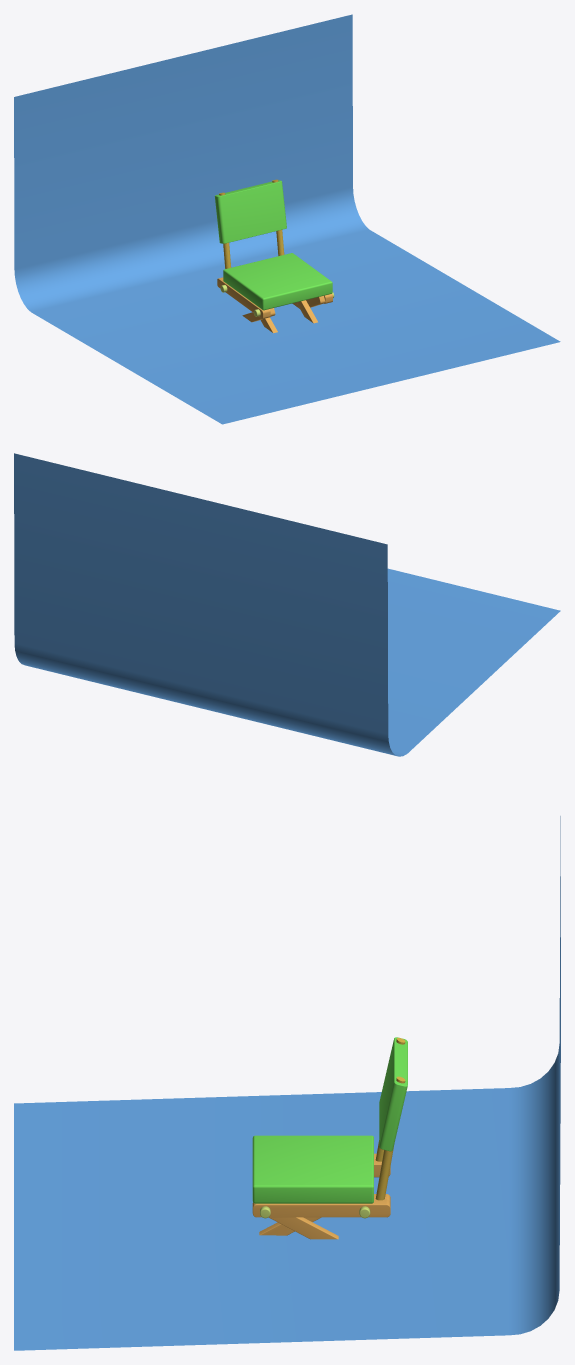
Rendered from chair.glb.
3 views of the same model, one above another, from view 1: azimuth 30°, elevation 25°; view 2: azimuth 150°, elevation 25°; view 3: azimuth 270°, elevation 25° (orthographic). The views are drawn at different scales.
Parts seen in each view (by area): view 1: 立方体.005, Cube, 立方体.004, 立方体; view 2: 立方体.005; view 3: 立方体.005, Cube, 立方体.004, 立方体, 立方体.001, 柱体.002.
Boxes of the visible parts, x1,y1,x2,y2 form: 立方体.005: (14, 14, 560, 424); Cube: (223, 253, 332, 310); 立方体.004: (214, 180, 286, 243); 立方体: (217, 277, 332, 318); 立方体.005: (14, 453, 560, 756); 立方体.005: (14, 816, 560, 1350); Cube: (252, 1135, 373, 1203); 立方体.004: (379, 1037, 407, 1151); 立方体: (252, 1153, 390, 1217); 立方体.001: (269, 1217, 338, 1239); 柱体.002: (375, 1037, 405, 1200).
Size of the model in its own units: 10.39 by 5.72 by 9.02.
